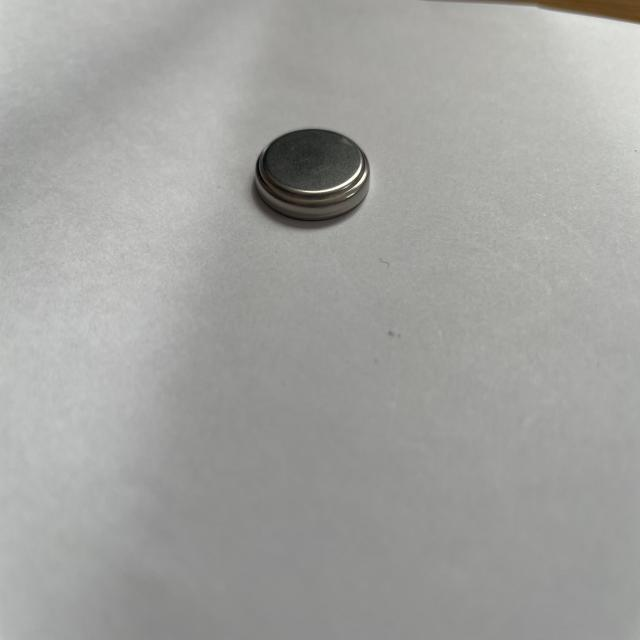COIN: (252, 126, 372, 224)
